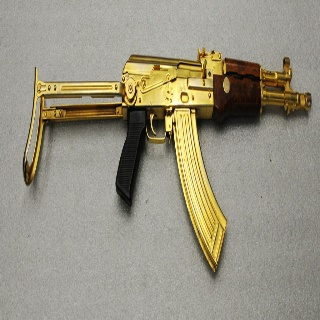rifle: (21, 44, 315, 275)
